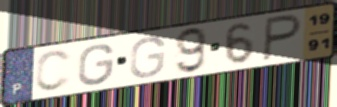6: (224, 21, 257, 66)
9: (173, 26, 209, 76)
C: (33, 48, 75, 94)
G: (76, 42, 116, 87), (128, 35, 168, 80)
P: (261, 13, 305, 64)
